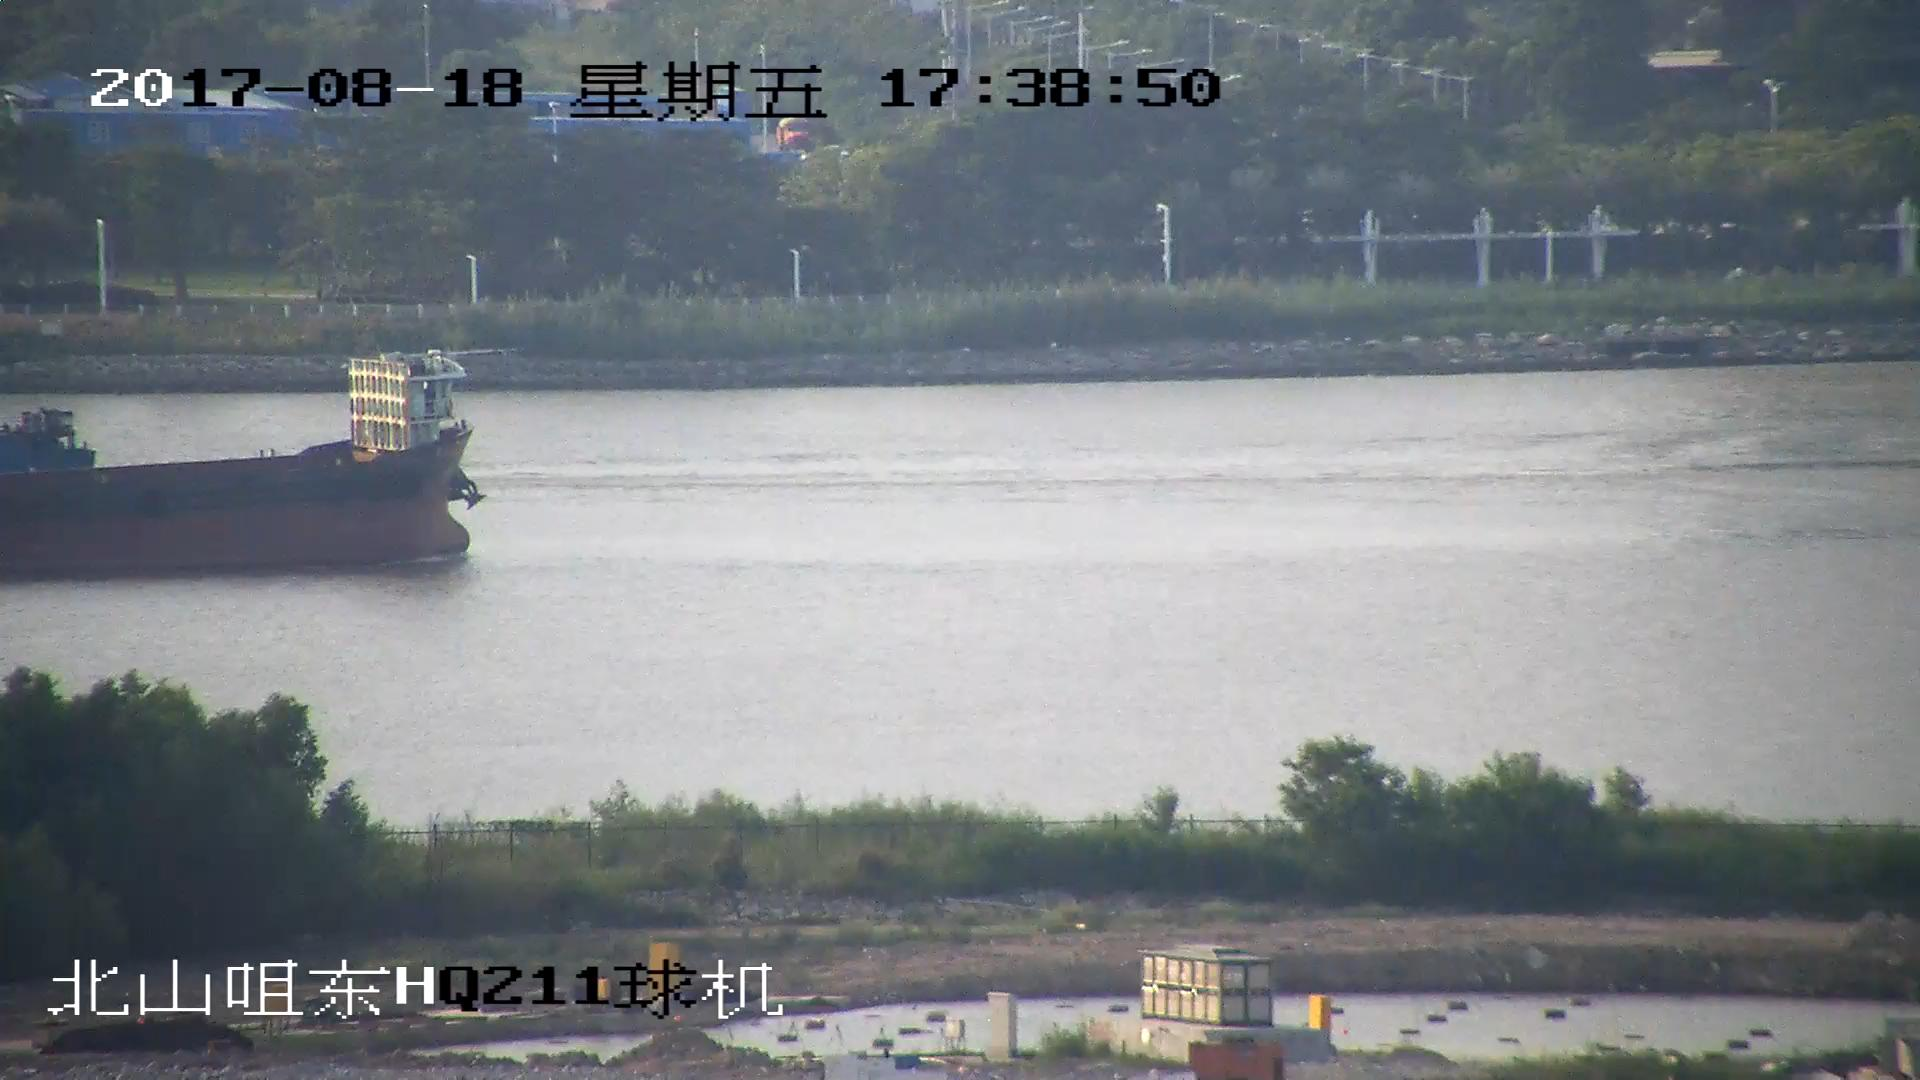general cargo ship: (1, 354, 483, 564)
